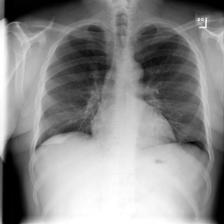normal: (29, 16, 215, 163)
